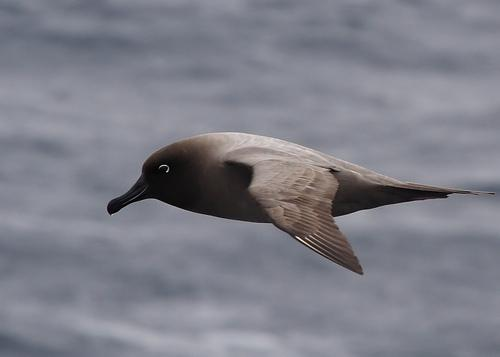003.Sooty_Albatross: (104, 131, 494, 276)
